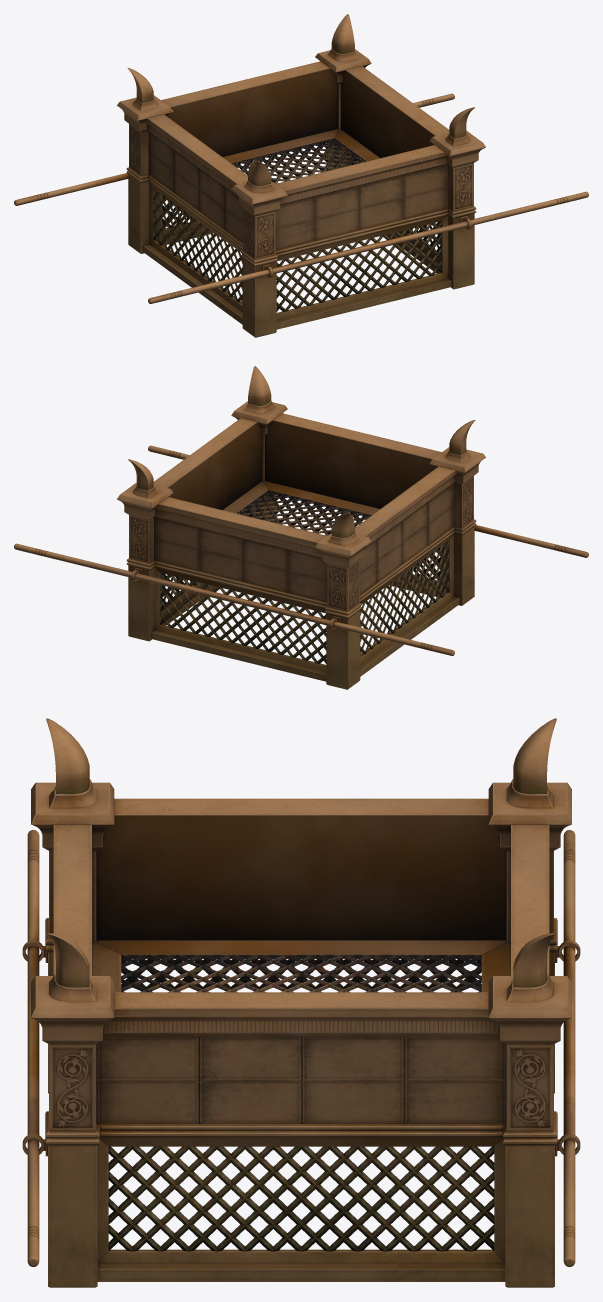
The model's file is furn_SM_AltarBurntOffering.glb.
3 views of the same model, one above another, from view 1: azimuth 30°, elevation 25°; view 2: azimuth 150°, elevation 25°; view 3: azimuth 270°, elevation 25° (orthographic). The views are drawn at different scales.
Parts seen in each view (by area): view 1: SM_AltarBurntOffering_M_AltarBurntOffering_0; view 2: SM_AltarBurntOffering_M_AltarBurntOffering_0; view 3: SM_AltarBurntOffering_M_AltarBurntOffering_0.
Boxes of the visible parts, x1,y1,x2,y2 form: SM_AltarBurntOffering_M_AltarBurntOffering_0: [14, 14, 588, 337]; SM_AltarBurntOffering_M_AltarBurntOffering_0: [14, 366, 588, 689]; SM_AltarBurntOffering_M_AltarBurntOffering_0: [22, 718, 580, 1287].
Bounding box in the file's own units: 4.5 × 1.74 × 2.48.
1 material, 1 textured.
